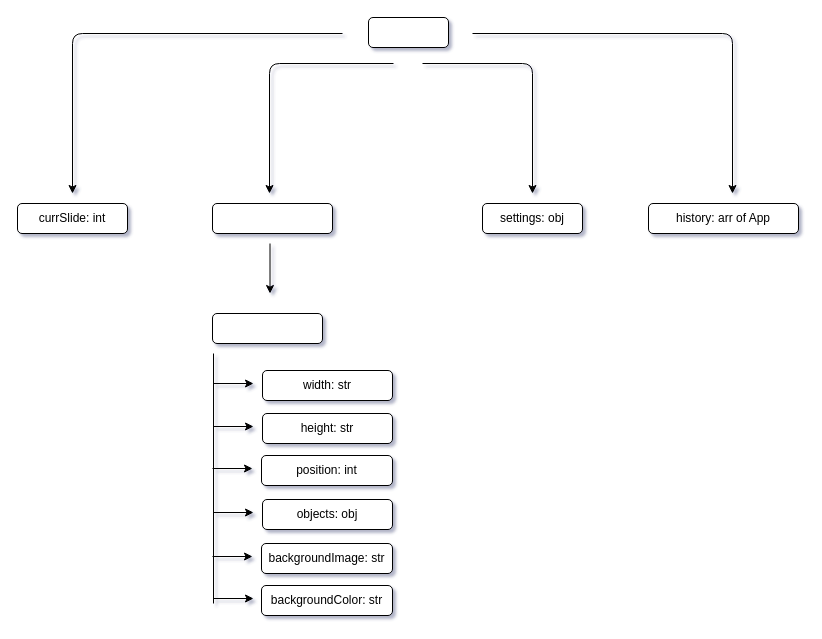
Image size: 822x639. Some labels were removed from this diagram. Each missing label, with the box of its shape:
App: (368, 16, 448, 48)
slide: obj: (212, 312, 322, 344)
slides: arr of Slide: (212, 202, 332, 234)
